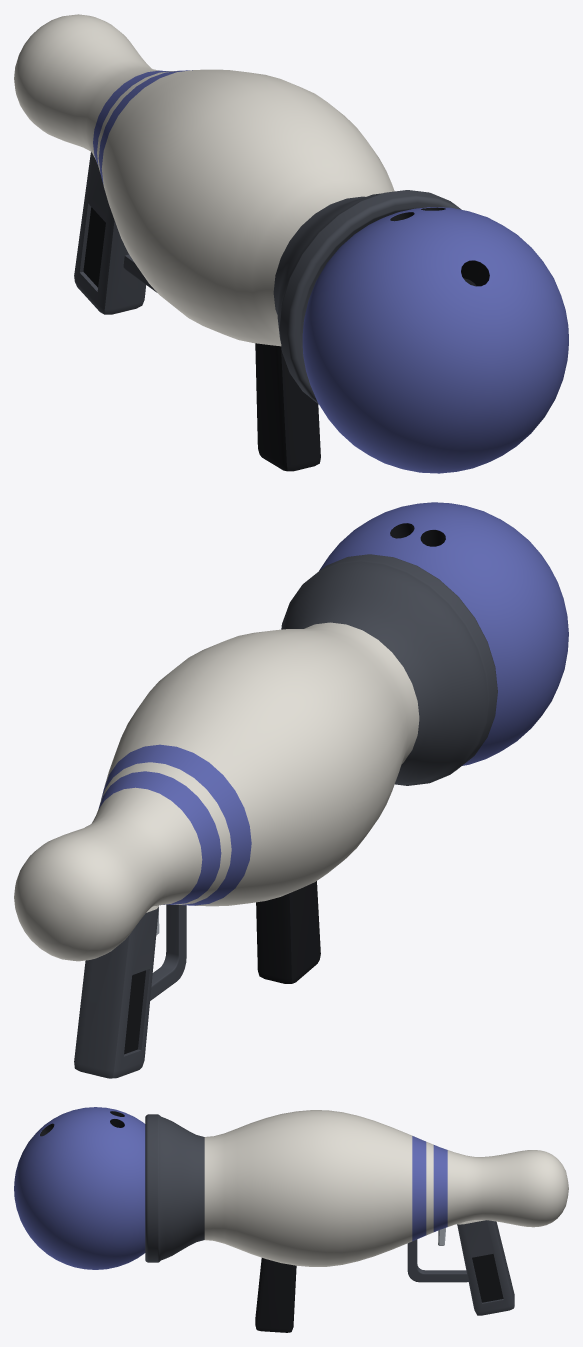
File: w_bowling.glb
3 renders of one model, top to bottom at view 1: azimuth 30°, elevation 25°; view 2: azimuth 150°, elevation 25°; view 3: azimuth 270°, elevation 25°, orthographic. The views are drawn at different scales.
Parts seen in each view (by area): view 1: body_wzA__body__pd9d6ce, ball_wzN__ball__p5d66ad, body_wzB__frame__p444851, fore_wzB__black__p16171b, grip_wzB__frame__p444851, body_wzN__ball__p5d66ad, grip_wzN__black__p16171b, ball_wzN__black__p16171b; view 2: body_wzA__body__pd9d6ce, ball_wzN__ball__p5d66ad, body_wzB__frame__p444851, grip_wzB__frame__p444851, body_wzN__ball__p5d66ad, fore_wzB__black__p16171b, grip_wzN__black__p16171b; view 3: body_wzA__body__pd9d6ce, ball_wzN__ball__p5d66ad, body_wzB__frame__p444851, grip_wzB__frame__p444851, body_wzN__ball__p5d66ad, fore_wzB__black__p16171b, grip_wzN__black__p16171b.
Boxes of the visible parts, <box> form: body_wzA__body__pd9d6ce: <box>14,14,394,346</box>; ball_wzN__ball__p5d66ad: <box>302,207,568,473</box>; body_wzB__frame__p444851: <box>273,190,461,404</box>; fore_wzB__black__p16171b: <box>255,343,320,471</box>; grip_wzB__frame__p444851: <box>74,152,156,314</box>; body_wzN__ball__p5d66ad: <box>93,70,192,183</box>; grip_wzN__black__p16171b: <box>83,207,105,287</box>; ball_wzN__black__p16171b: <box>390,207,489,286</box>; body_wzA__body__pd9d6ce: <box>14,622,419,961</box>; ball_wzN__ball__p5d66ad: <box>319,502,568,765</box>; body_wzB__frame__p444851: <box>281,554,497,785</box>; grip_wzB__frame__p444851: <box>74,904,186,1078</box>; body_wzN__ball__p5d66ad: <box>98,744,251,905</box>; fore_wzB__black__p16171b: <box>256,881,320,983</box>; grip_wzN__black__p16171b: <box>124,970,145,1054</box>; body_wzA__body__pd9d6ce: <box>204,1110,568,1266</box>; ball_wzN__ball__p5d66ad: <box>14,1107,145,1269</box>; body_wzB__frame__p444851: <box>145,1114,204,1262</box>; grip_wzB__frame__p444851: <box>407,1220,514,1315</box>; body_wzN__ball__p5d66ad: <box>412,1136,447,1241</box>; fore_wzB__black__p16171b: <box>255,1258,296,1332</box>; grip_wzN__black__p16171b: <box>472,1254,503,1302</box>.
Size of the model in its own units: 0.22 by 0.3191 by 0.7485.
